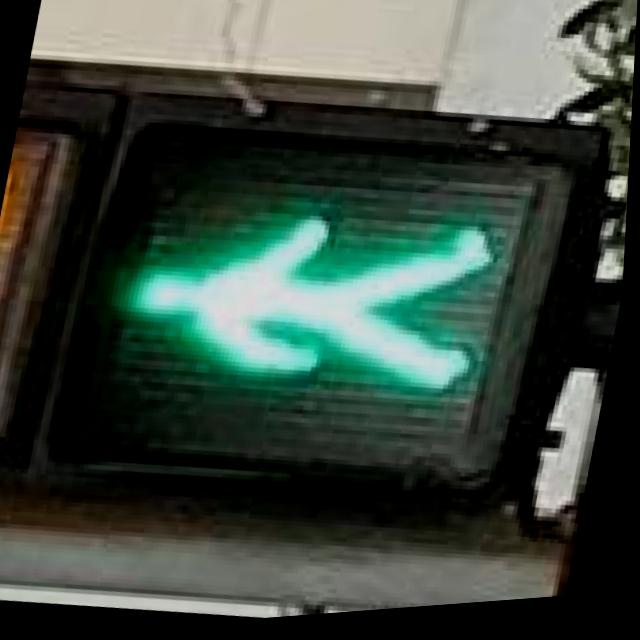green_light: (62, 98, 544, 501)
